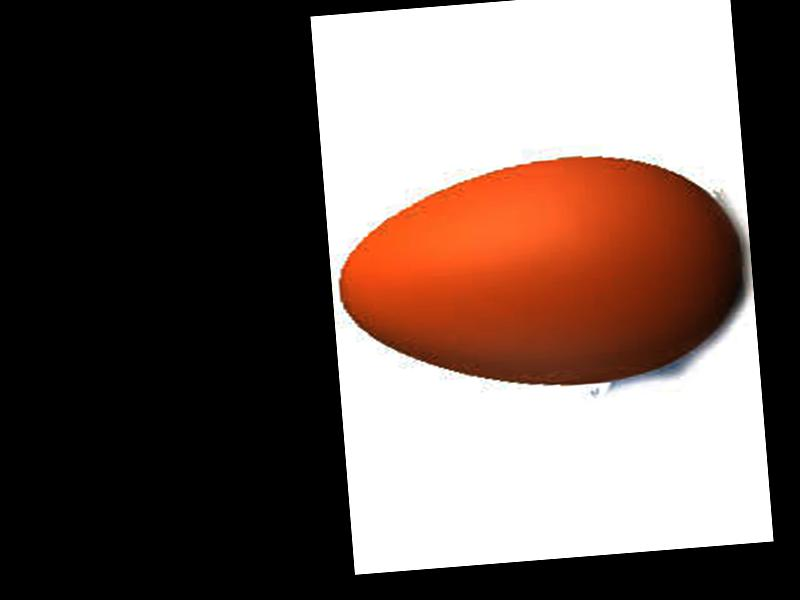Eggs: (333, 144, 750, 401)
